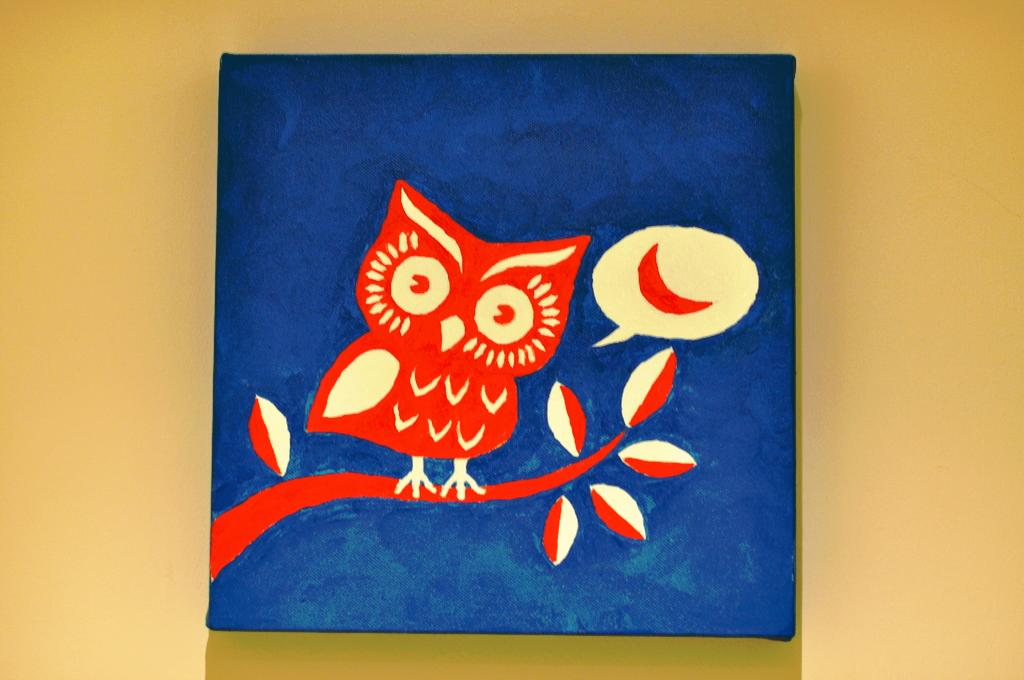Owl: (300, 178, 590, 502)
